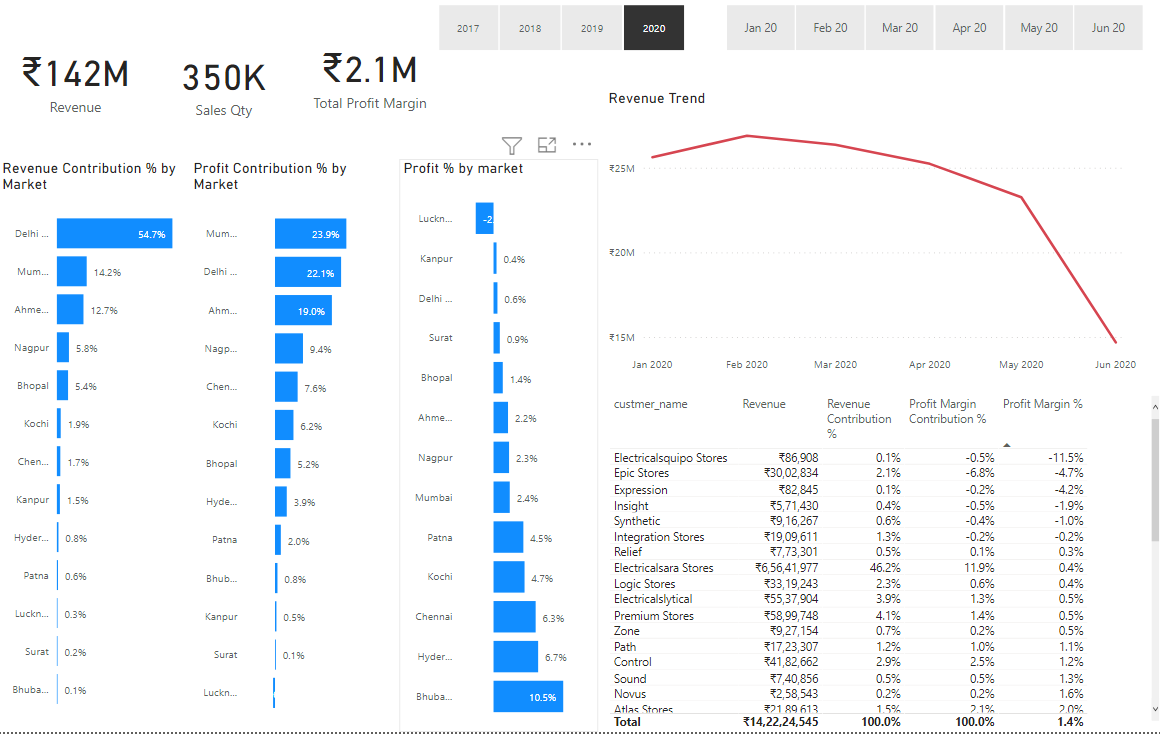

Layout of this report page (visuals, bound fields, positions):
{"tool":"powerbi","page":{"name":"Profit Analysis","canvas":[1350,850],"ordinal":1},"visuals":[{"type":"card","fields":{"Values":["BaseMeasures (2).Revenue"]},"box":[0,0,179.6,184.8],"z":0},{"type":"card","fields":{"Values":["BaseMeasures (2).Sales Qty"]},"box":[179.6,0,164.1,193],"z":1000},{"type":"barChart","title":"Profit % by market","fields":{"Y":["BaseMeasures (2).Profit Margin %"],"Category":["sales markets.markets_name"]},"box":[464.5,184.8,230.2,664.8],"z":2000},{"type":"barChart","title":"Profit Contribution % by Market","fields":{"Y":["BaseMeasures (2).Profit Margin Contribution %"],"Category":["sales markets.markets_name"]},"box":[221.9,185.8,208.5,659.6],"z":3000},{"type":"slicer","fields":{"Values":["sales date.year"]},"box":[483.2,0,335.5,66.5],"z":4000},{"type":"slicer","fields":{"Values":["sales date.cy_date"]},"box":[818.6,0,531.7,66.5],"z":5000},{"type":"tableEx","title":"Top 5 Customers","fields":{"Values":["sales customers.custmer_name","BaseMeasures (2).Revenue","BaseMeasures (2).Revenue Contribution %","BaseMeasures (2).Profit Margin Contribution %","BaseMeasures (2).Profit Margin %"]},"box":[701.9,454.2,648.3,395.4],"z":6000},{"type":"lineChart","title":"Revenue Trend","fields":{"Y":["BaseMeasures (2).Revenue"],"Category":["sales date.cy_date"]},"box":[701.9,104.3,621.4,338.6],"z":7000},{"type":"card","fields":{"Values":["BaseMeasures (2).Total Profit Margin"]},"box":[349.9,0,161,176.5],"z":8000},{"type":"barChart","title":"Revenue Contribution % by Market","fields":{"Y":["BaseMeasures (2).Revenue Contribution %"],"Category":["sales markets.markets_name"]},"box":[0,185.8,219.9,654.5],"z":9000}]}

Visuals, with their boxes in screenshot pixels (x1, y1, x2, y2), scaled from the page's 1350x850 canvas onto the 1160x735 screenshot:
card - BaseMeasures (2).Revenue: 0,0,154,160
card - BaseMeasures (2).Sales Qty: 154,0,295,167
"Profit % by market" barChart: 399,160,597,734
"Profit Contribution % by Market" barChart: 191,161,370,731
slicer - sales date.year: 415,0,703,58
slicer - sales date.cy_date: 703,0,1159,58
"Top 5 Customers" tableEx: 603,393,1159,734
"Revenue Trend" lineChart: 603,90,1137,383
card - BaseMeasures (2).Total Profit Margin: 301,0,439,153
"Revenue Contribution % by Market" barChart: 0,161,189,727
